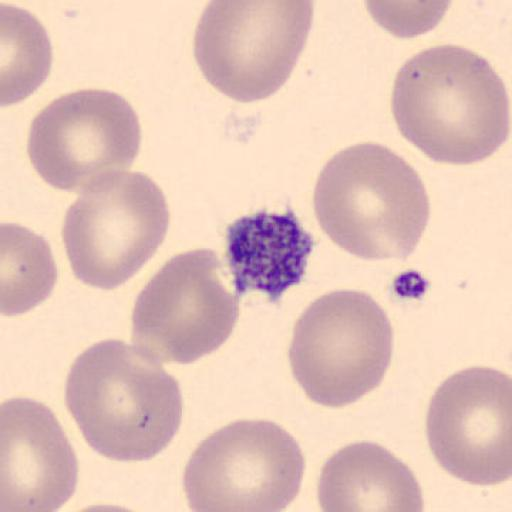Platelet: (220, 205, 318, 303)
RBC: (63, 336, 186, 466), (389, 41, 510, 168), (310, 139, 432, 264), (61, 165, 171, 292), (286, 286, 395, 409), (190, 0, 316, 106), (130, 246, 241, 366), (26, 86, 144, 192), (182, 416, 307, 512), (422, 364, 512, 488), (1, 396, 79, 511), (315, 438, 426, 512), (1, 2, 54, 109), (2, 220, 58, 317), (362, 0, 456, 41), (48, 499, 166, 512), (48, 502, 157, 512)
